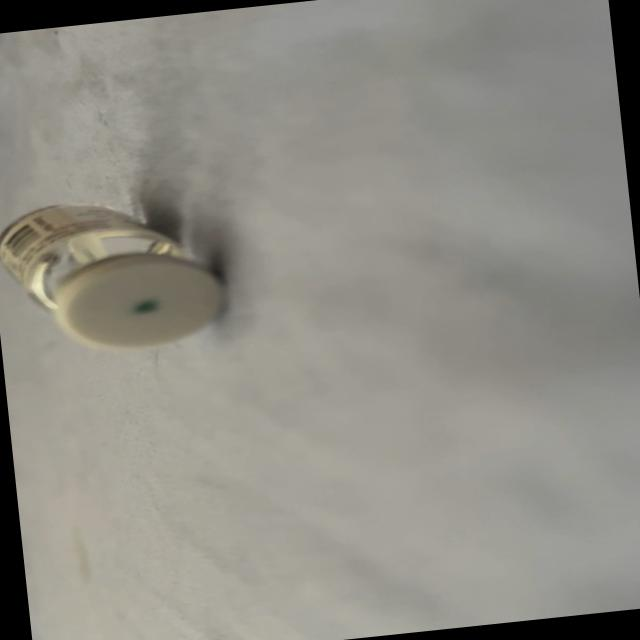fentanl_citrat: (0, 189, 226, 360)
